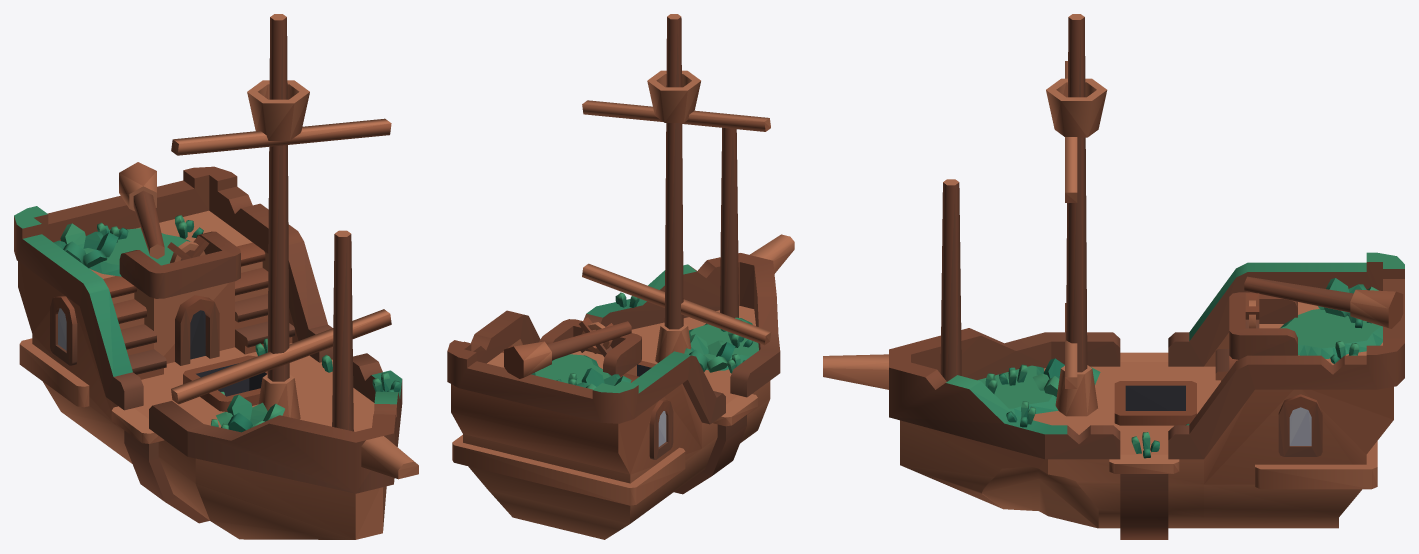
Rendered from pirate_ship_wreck.glb.
The picture shows the model from 3 angles, left to right: view 1: azimuth 30°, elevation 25°; view 2: azimuth 150°, elevation 25°; view 3: azimuth 270°, elevation 25°; orthographic projection. The views are drawn at different scales.
Parts seen in each view (by area): view 1: pirate_ship_wreck; view 2: pirate_ship_wreck; view 3: pirate_ship_wreck.
Part boxes in pixels (<box>): pirate_ship_wreck: <box>14,14,418,539</box>; pirate_ship_wreck: <box>447,14,794,539</box>; pirate_ship_wreck: <box>823,14,1404,539</box>.
Size of the model in its own units: 4.8 by 9.96 by 10.6.
